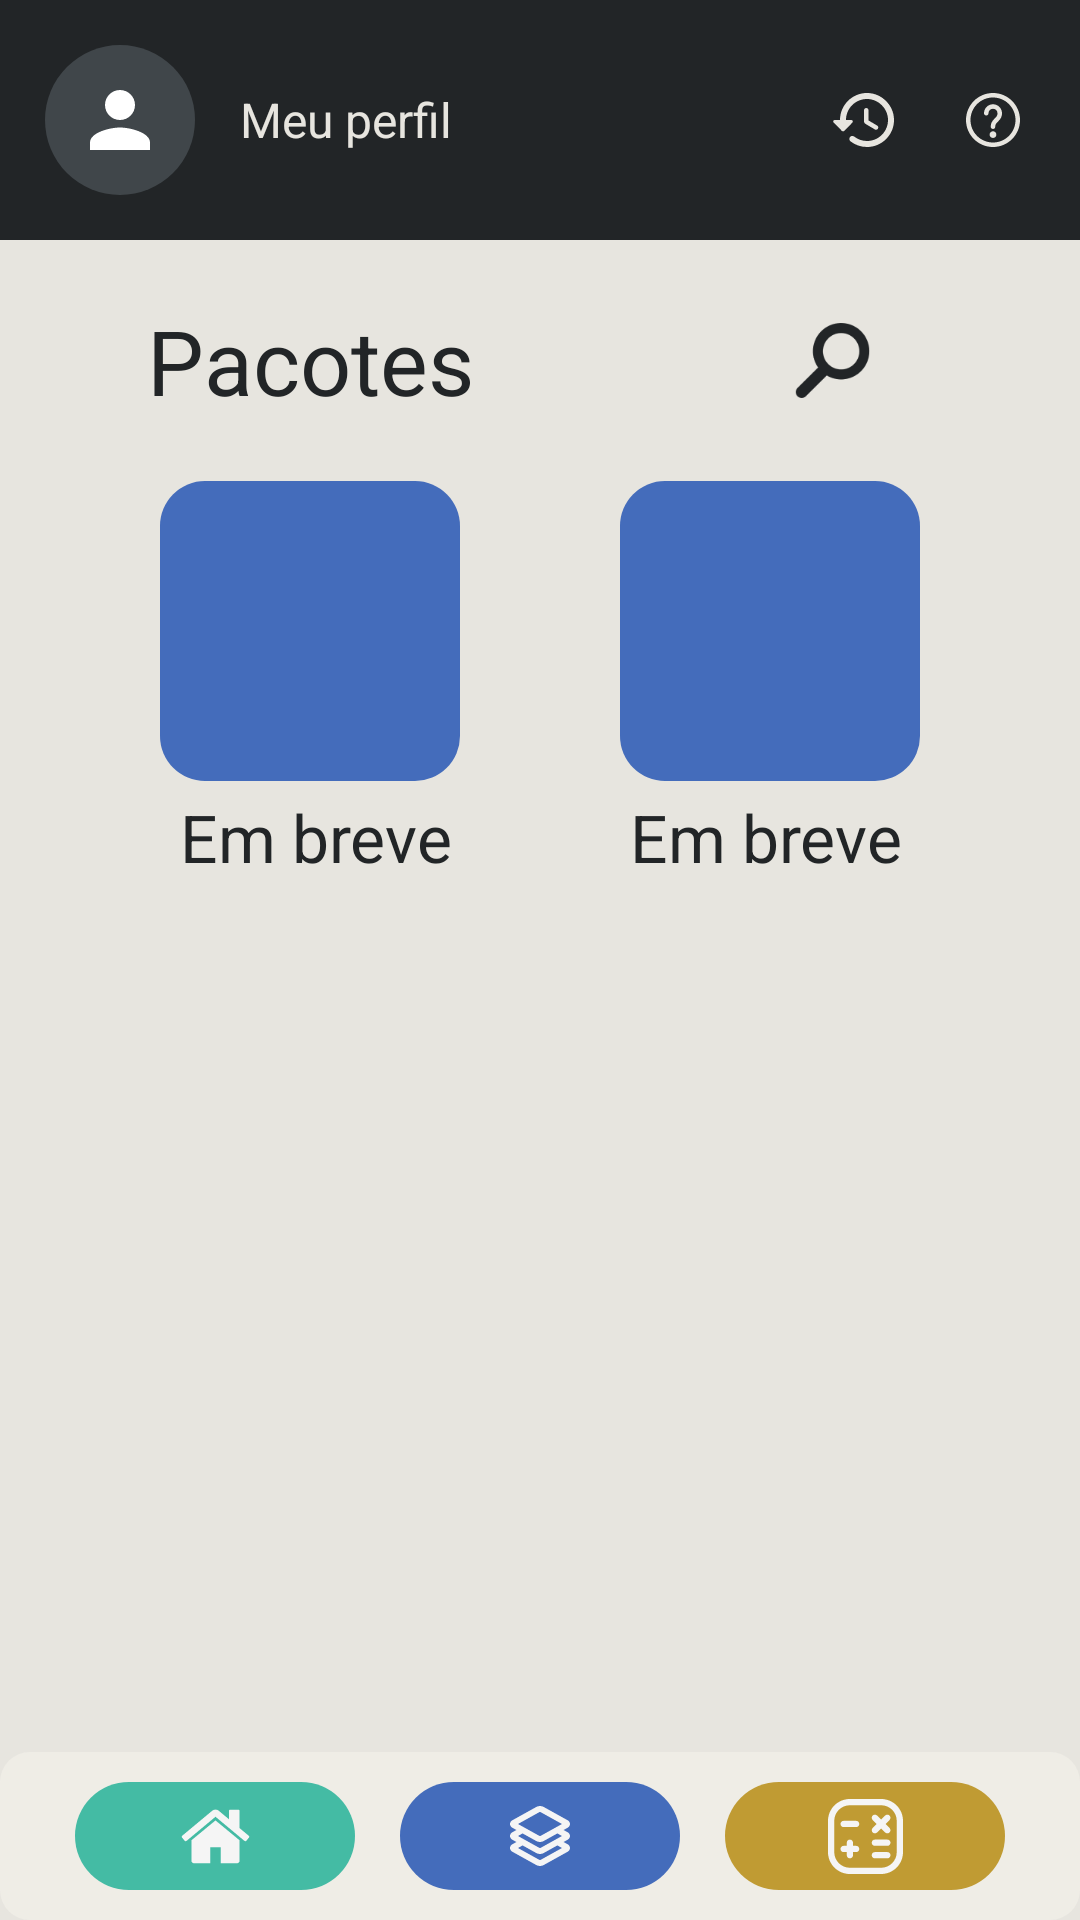

Named icons in this screenshot (1080px x 1920px) and their centers, (x,y):
calculadora: (865,1836)
casinha: (215,1836)
history: (863,120)
interrogacao: (993,120)
lupa: (832,360)
pacotes: (540,1836)
